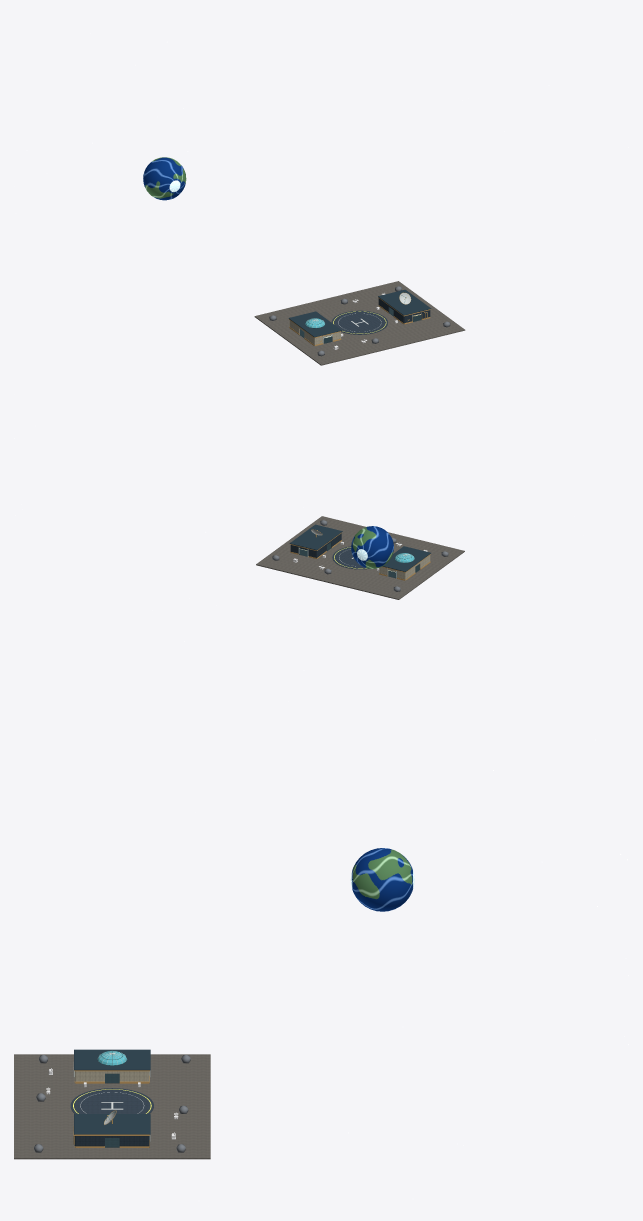
Rendered from moon-low.glb.
3 renders of one model, top to bottom at view 1: azimuth 30°, elevation 25°; view 2: azimuth 150°, elevation 25°; view 3: azimuth 270°, elevation 25°, orthographic. The views are drawn at different scales.
Parts seen in each view (by area): view 1: moon playable ground.004, Art distant Earth.003, Batched 6.003, landing pad.004; view 2: moon playable ground.004, Art distant Earth.003, Batched 6.003, landing pad.004; view 3: moon playable ground.004, Art distant Earth.003, Batched 6.003, landing pad.004.
Boxes of the visible parts, x1,y1,x2,y2 form: moon playable ground.004: (254, 281, 465, 365); Art distant Earth.003: (143, 157, 186, 200); Batched 6.003: (288, 289, 431, 337); landing pad.004: (331, 310, 387, 334); moon playable ground.004: (256, 516, 464, 599); Art distant Earth.003: (351, 526, 393, 568); Batched 6.003: (289, 524, 430, 571); landing pad.004: (332, 546, 369, 569); moon playable ground.004: (14, 1054, 210, 1159); Art distant Earth.003: (350, 848, 414, 911); Batched 6.003: (74, 1049, 150, 1134); landing pad.004: (70, 1088, 153, 1113).
Bounding box in the file's own units: 415 × 131 × 250.
Materials: 22 (6 with a texture image).
